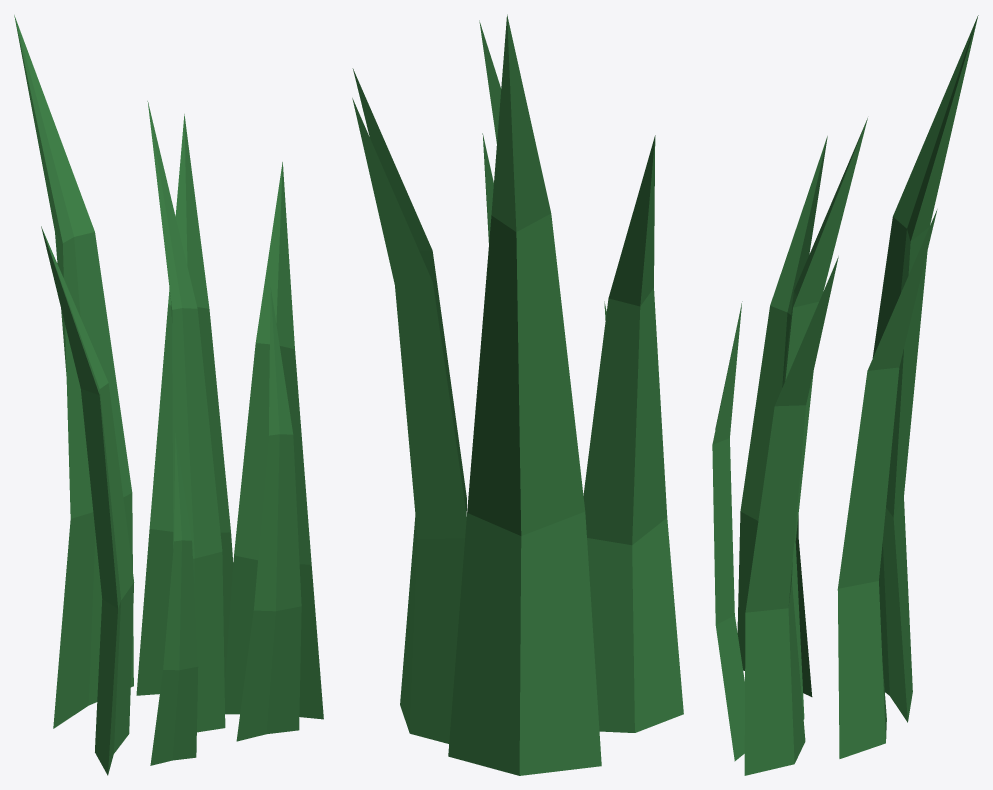
Rendered from Grass02.fbx.
3 views of the same model, side by side, from view 1: azimuth 30°, elevation 25°; view 2: azimuth 150°, elevation 25°; view 3: azimuth 270°, elevation 25° (orthographic). The views are drawn at different scales.
Visible parts, largest first — view 1: Grass_02; view 2: Grass_02; view 3: Grass_02.
Boxes of the visible parts, x1,y1,x2,y2 form: Grass_02: (14, 15, 323, 775); Grass_02: (352, 14, 683, 775); Grass_02: (712, 15, 978, 775).
Bounding box in the file's own units: 17.99 × 46.34 × 16.74.
